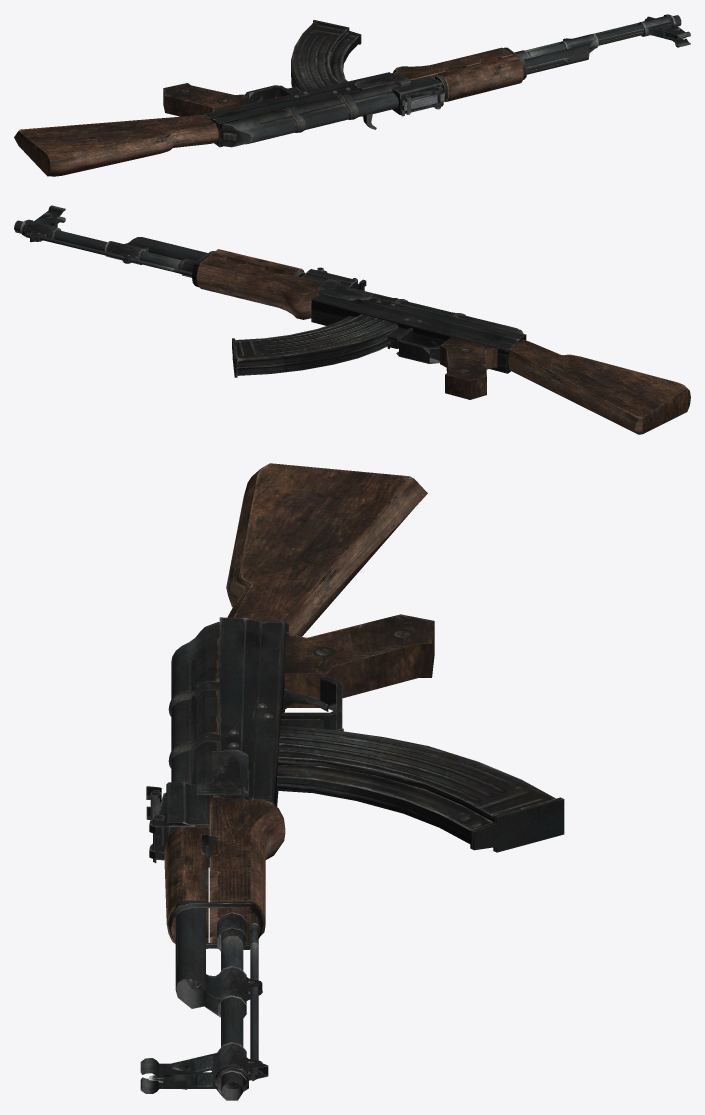
Rendered from viewmodel_ak47_LOD0.obj.
3 renders of one model, top to bottom at view 1: azimuth 30°, elevation 25°; view 2: azimuth 150°, elevation 25°; view 3: azimuth 270°, elevation 25°, orthographic. The views are drawn at different scales.
Visible parts, largest first — view 1: mtl_weapon_ak47, mtl_weapon_ak47_misc_nocamo; view 2: mtl_weapon_ak47, mtl_weapon_ak47_misc_nocamo; view 3: mtl_weapon_ak47, mtl_weapon_ak47_misc_nocamo.
Boxes of the visible parts, x1,y1,x2,y2 form: mtl_weapon_ak47: [202, 14, 690, 147]; mtl_weapon_ak47_misc_nocamo: [14, 47, 523, 176]; mtl_weapon_ak47: [14, 205, 526, 377]; mtl_weapon_ak47_misc_nocamo: [196, 249, 690, 434]; mtl_weapon_ak47: [140, 617, 564, 1100]; mtl_weapon_ak47_misc_nocamo: [164, 463, 434, 948].
Bounding box in the file's own units: 99.44 × 5.96 × 29.32.
Materials: 2 (2 with a texture image).
